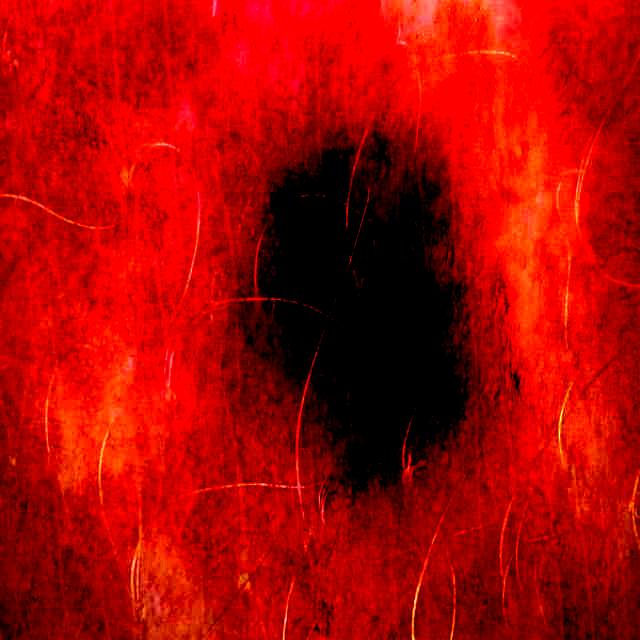NV: (228, 112, 479, 486)
